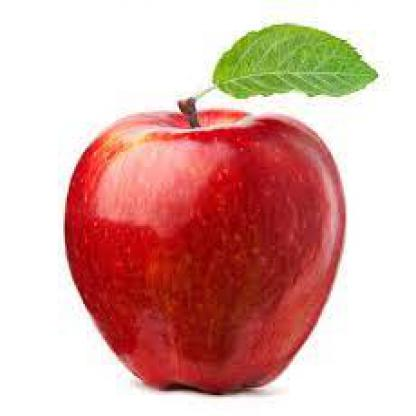Fresh: (42, 21, 394, 403)
